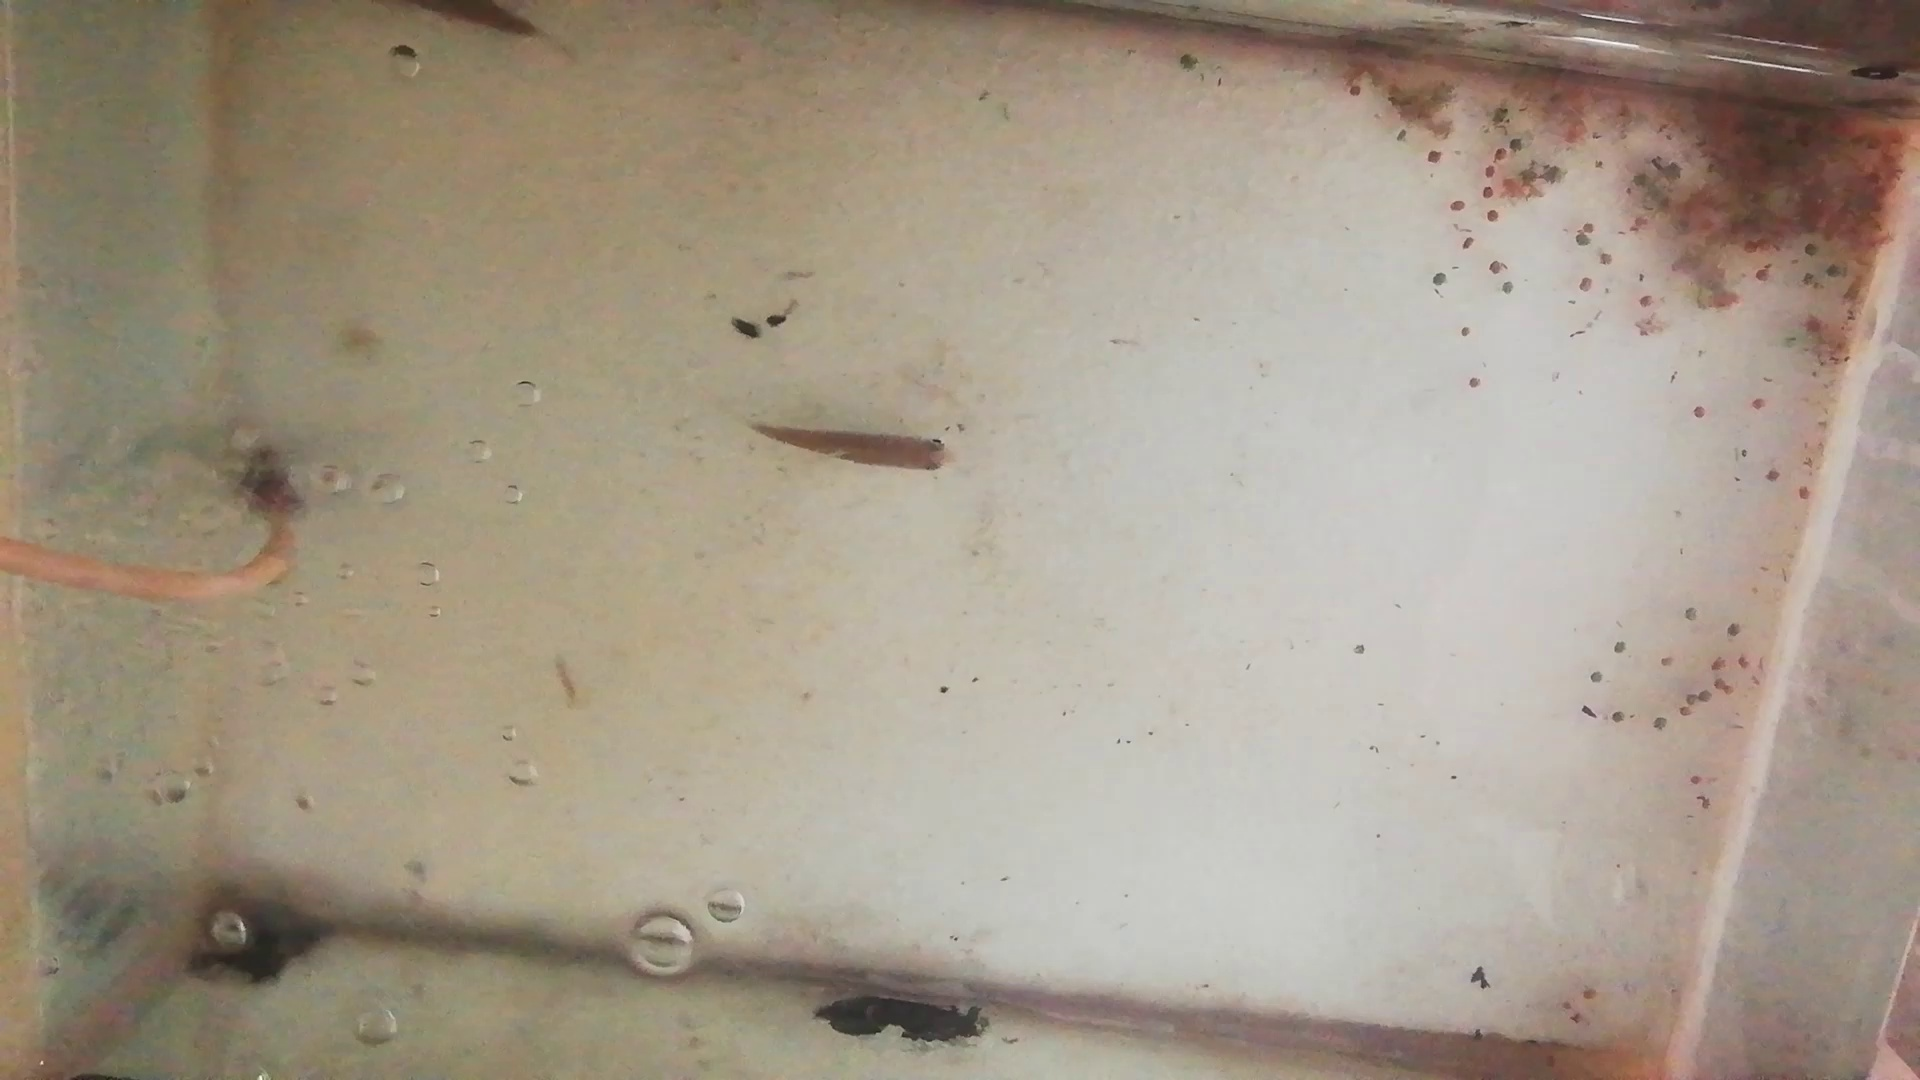fish: (757, 425, 960, 477), (398, 1, 543, 44)
